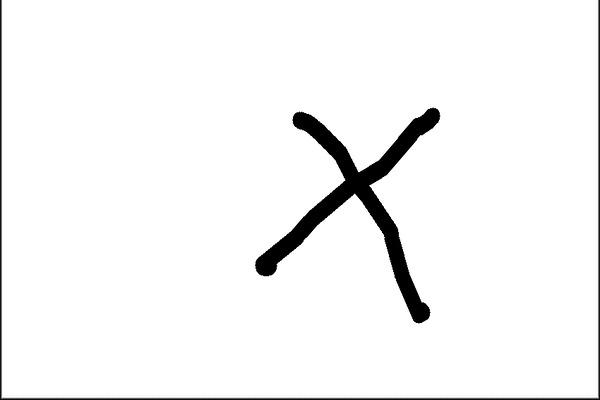X: (237, 77, 440, 348)
